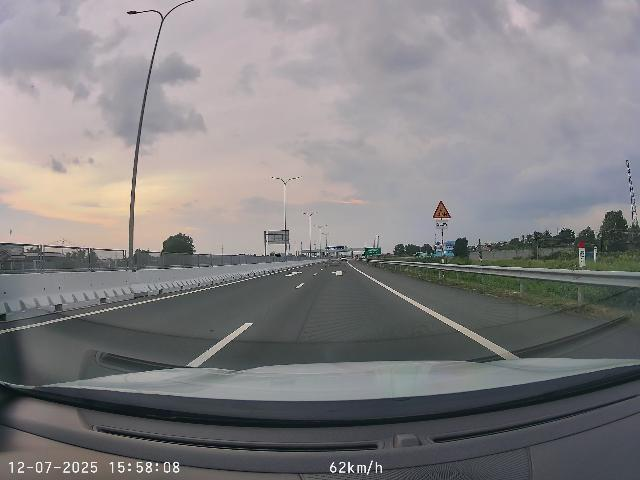245-di-cham: (432, 200, 451, 219)
